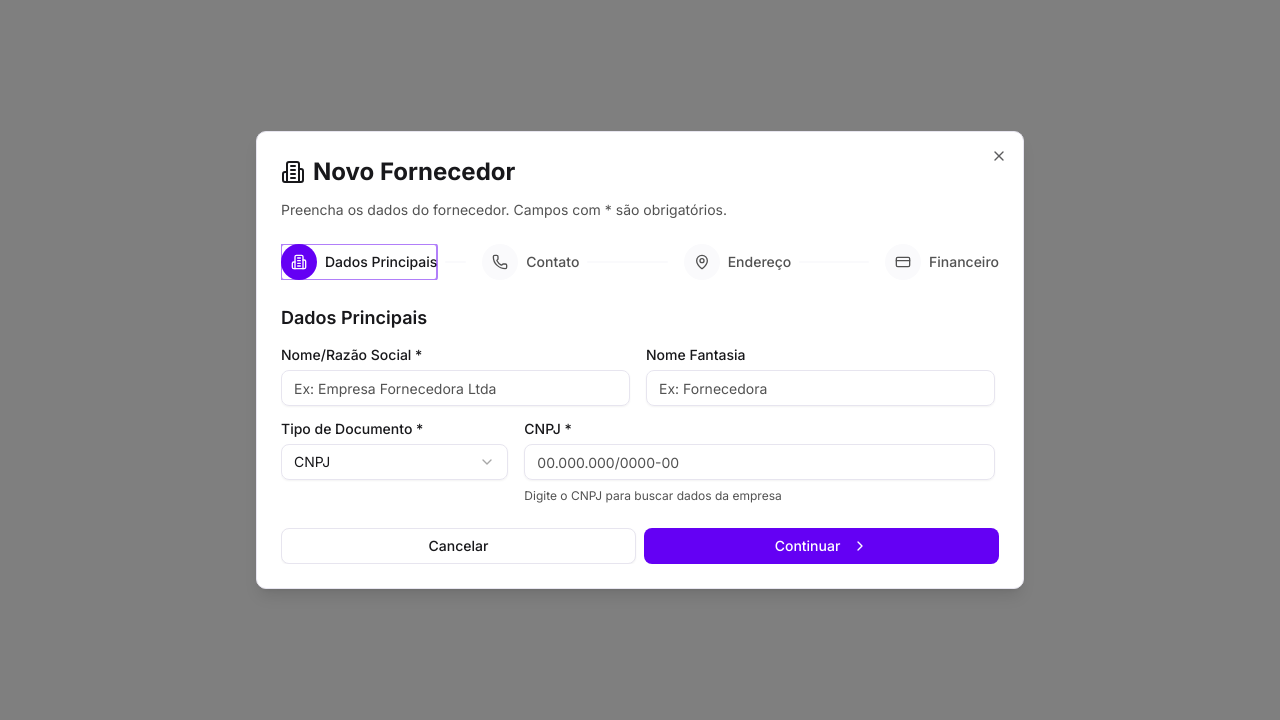
Test: SupplierFormDialog - wizard de passos › does not advance to step 2 when required fields are empty
This screenshot has width=1280, height=720.
Click the button "Continuar" at (822, 546), box top-left (644, 528), bottom-right (999, 564)
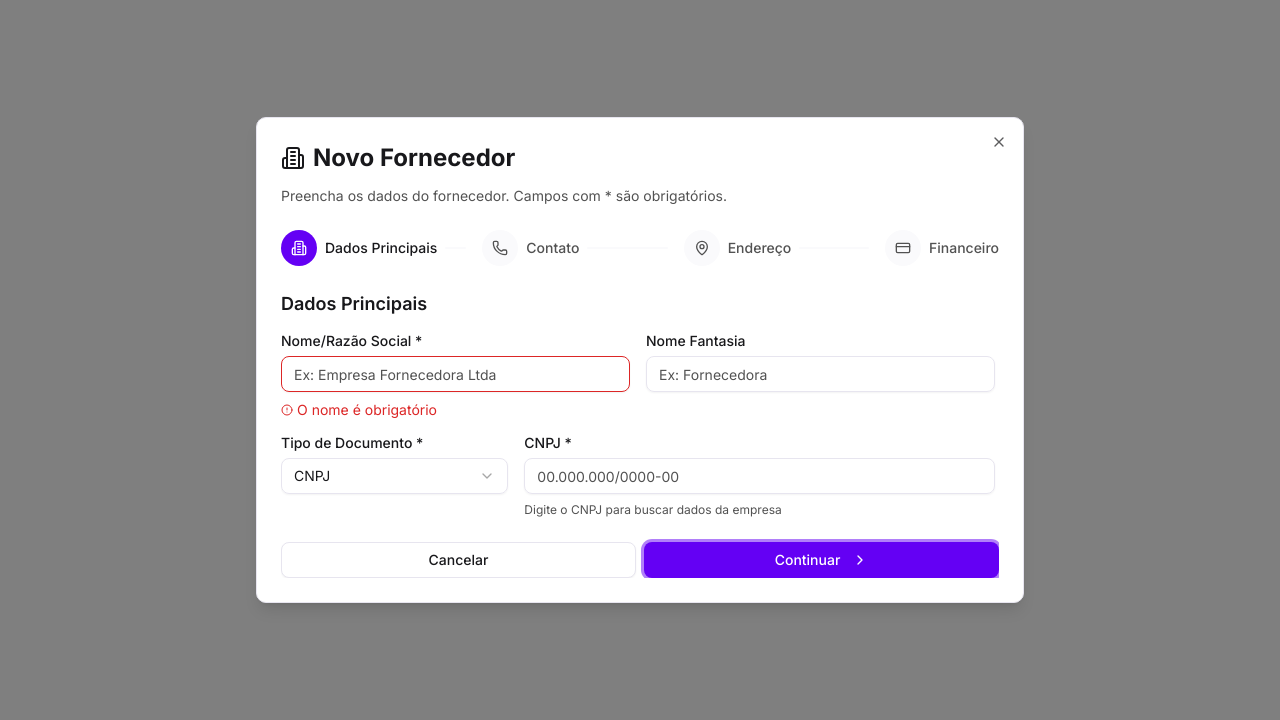
expect the text "O nome é obrigatório" is shown: met, box top-left (281, 401), bottom-right (437, 418)
